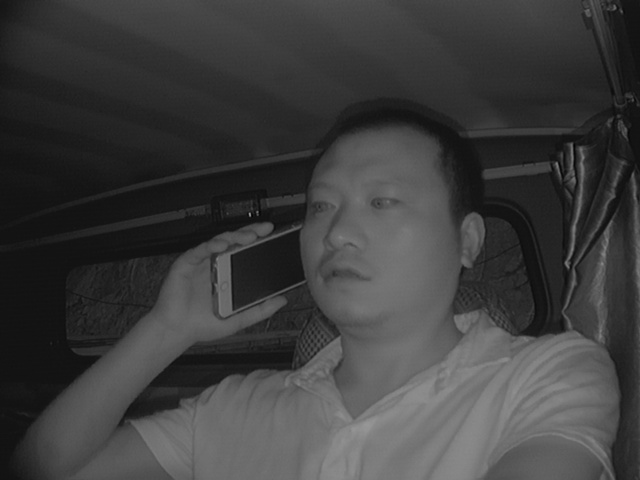hand: (159, 217, 287, 344)
